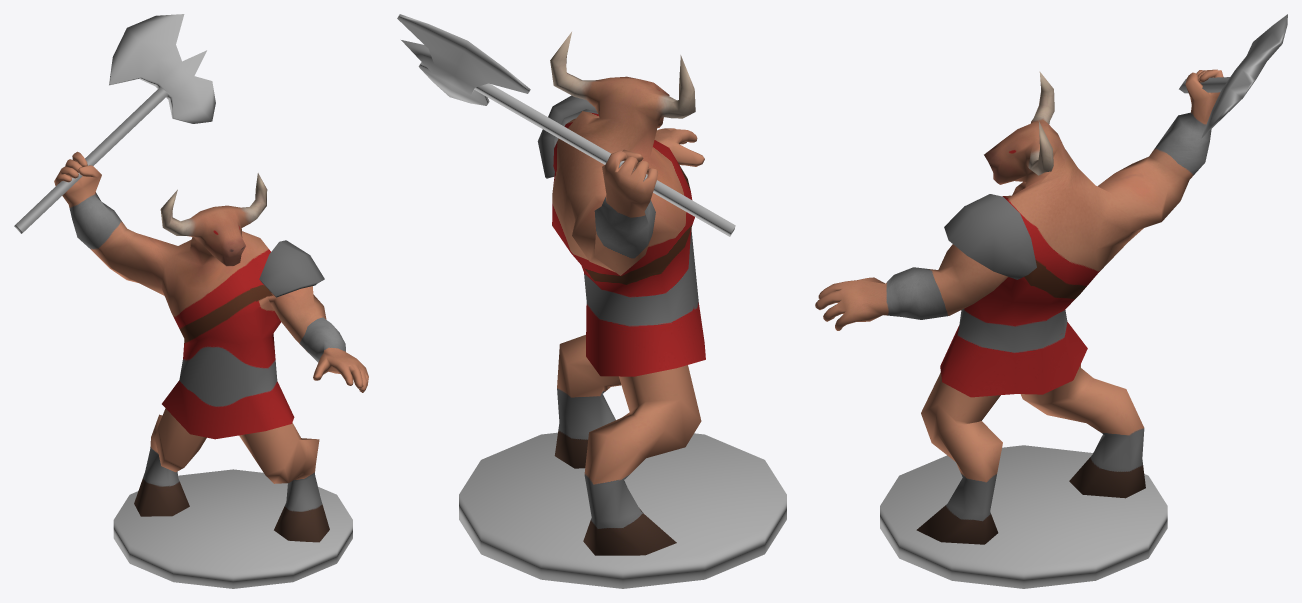
Rendered from Minotauro.fbx.
3 renders of one model, left to right at view 1: azimuth 30°, elevation 25°; view 2: azimuth 150°, elevation 25°; view 3: azimuth 270°, elevation 25°, orthographic. The views are drawn at different scales.
Visible parts, largest first — view 1: Minotauro_body, Minotauro_base, Minotauro_axe; view 2: Minotauro_body, Minotauro_base, Minotauro_axe; view 3: Minotauro_body, Minotauro_base, Minotauro_axe.
Part boxes in pixels (x1,y1,x2,y2): Minotauro_body: (54, 151, 368, 542); Minotauro_base: (113, 469, 352, 588); Minotauro_axe: (14, 14, 215, 233); Minotauro_body: (537, 32, 705, 555); Minotauro_base: (459, 432, 786, 588); Minotauro_axe: (397, 14, 735, 236); Minotauro_body: (815, 69, 1223, 544); Minotauro_base: (880, 445, 1167, 588); Minotauro_axe: (1179, 14, 1287, 138).
Size of the model in its own units: 24.22 by 39.66 by 32.53.
